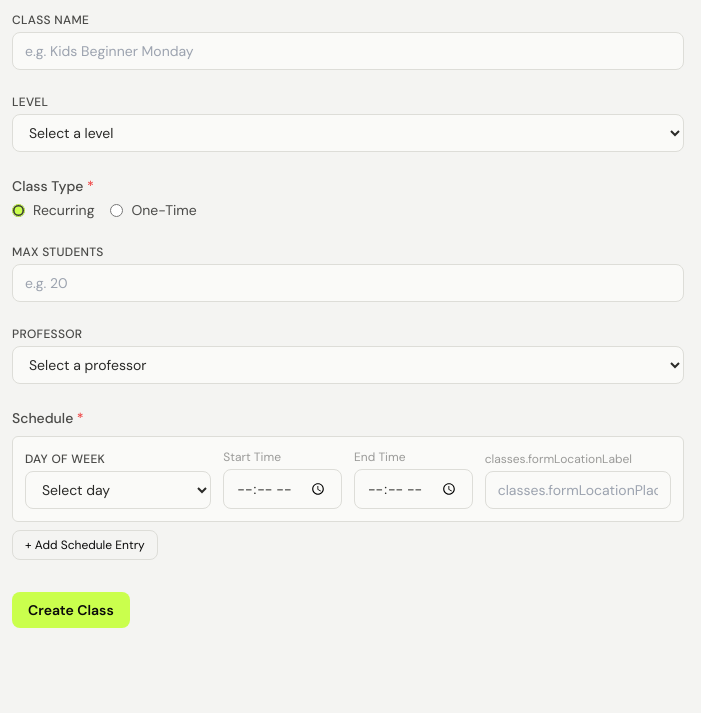
Scenario: ClassForm (create mode) › validates level is required on submit
The width and height of the screenshot is (701, 713).
Type "Test Class" into the field labelled "Class Name".
click(348, 51); type("Test Class")  # box [12,32,684,70]
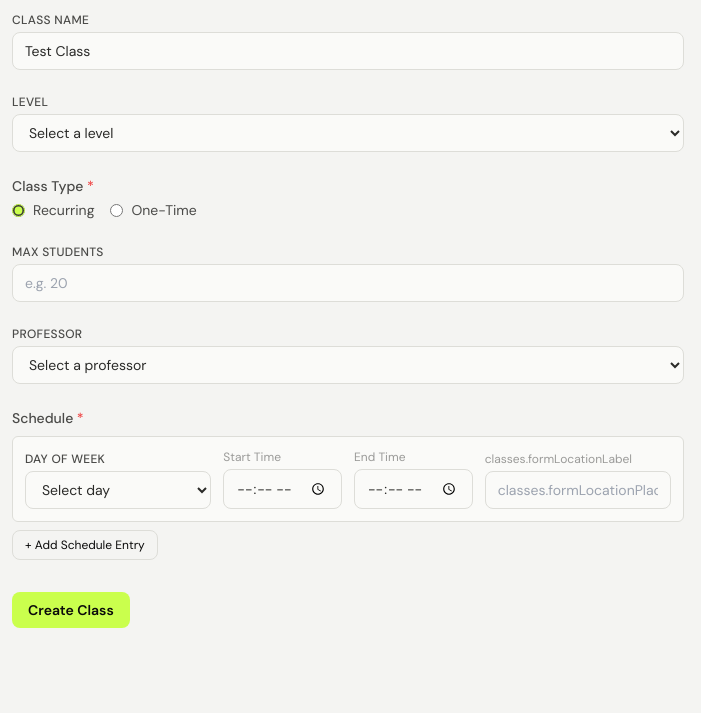
Type "20" into the number field labelled "Max Students".
click(348, 283); type("20")  # box [12,264,684,302]
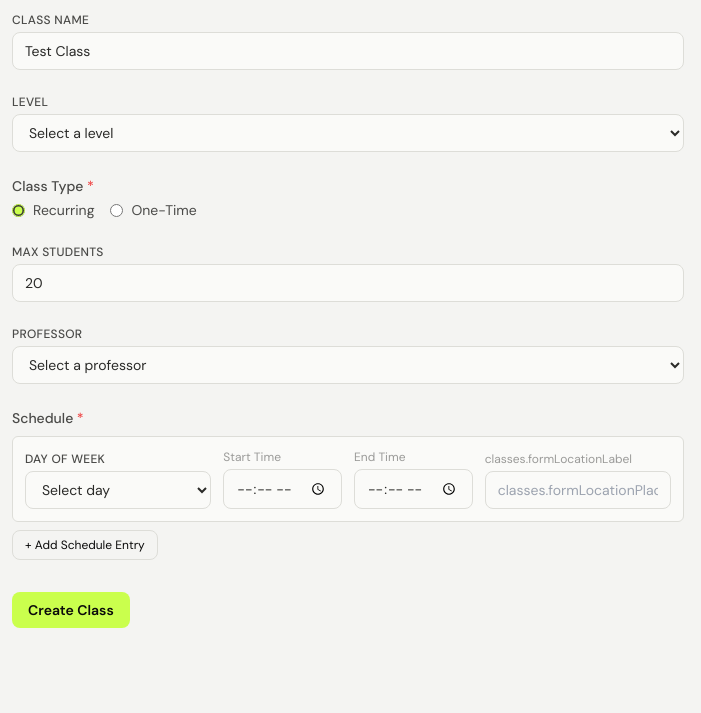
Click the button "Create Class".
click(71, 610)  # box [12,592,130,628]
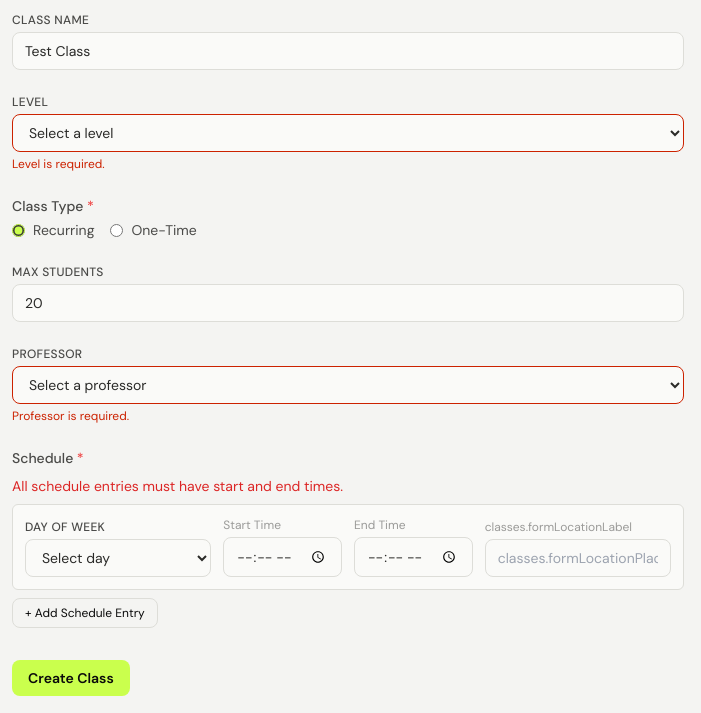
Expected: the text "Level is required." is shown, [12,156,105,172]
